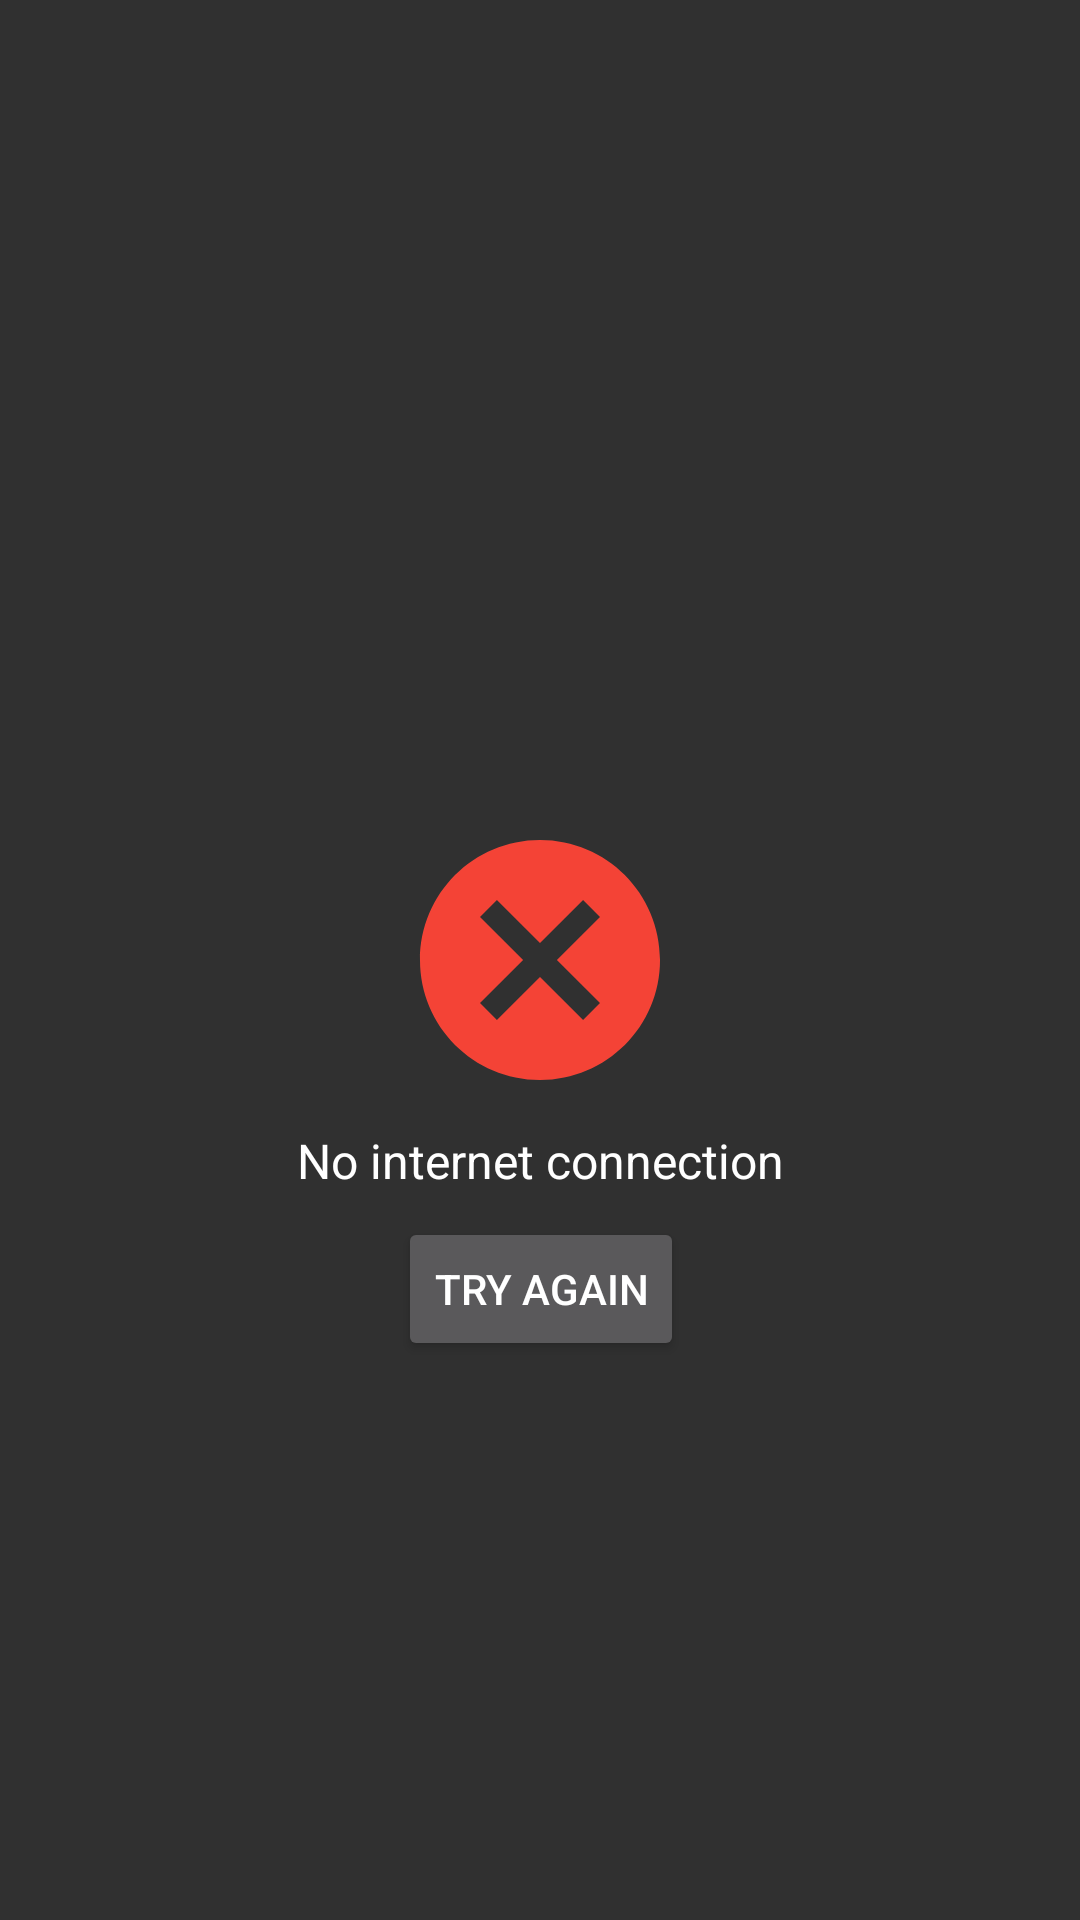

Icons on this 1080x1920 Android screen, each with the point to tap as [x,y]:
Error Image: [540,960]
